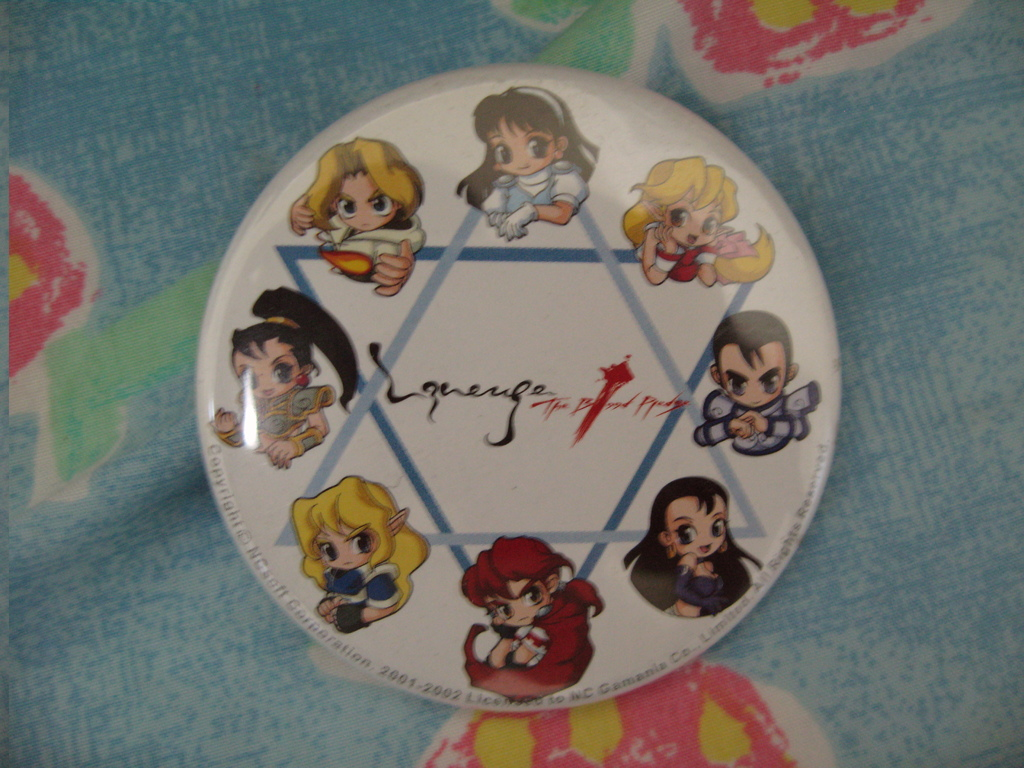plate: (151, 2, 880, 732)
